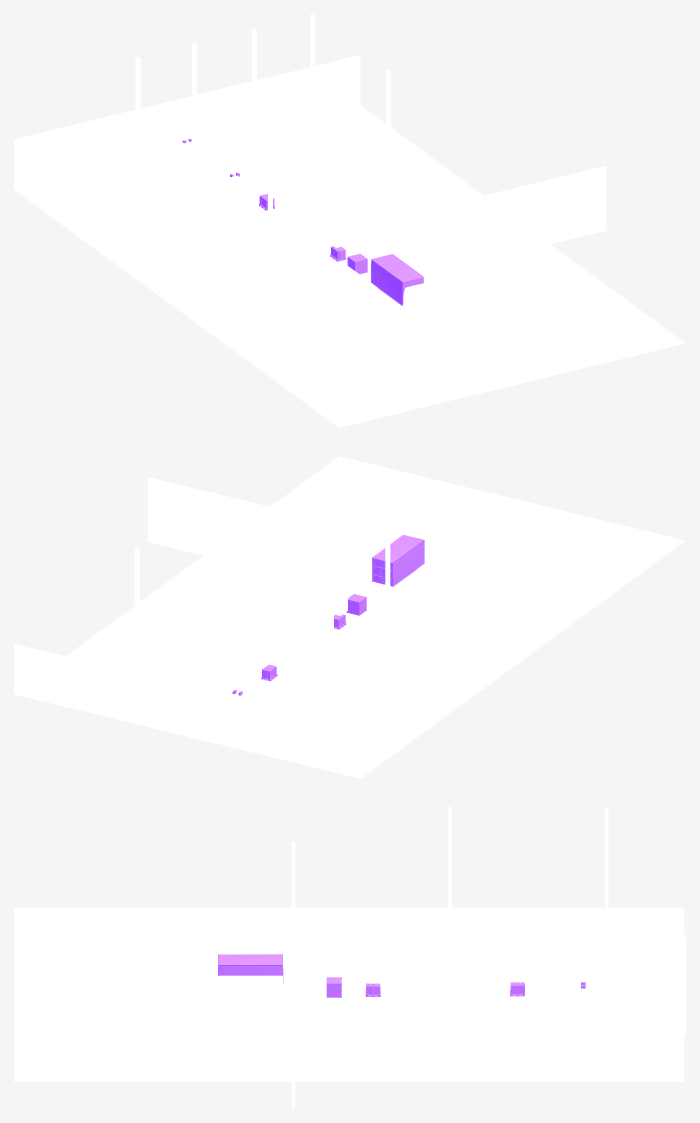
Rendered from fulfillment-draco.gltf.
3 views of the same model, one above another, from view 1: azimuth 30°, elevation 25°; view 2: azimuth 150°, elevation 25°; view 3: azimuth 270°, elevation 25° (orthographic). The views are drawn at different scales.
Visible parts, largest first — view 1: Building, right wall, left wall, container (×3), body (×3), col 1 (×2), col 2 (×2), col 3 (×2), col 4 (×2); view 2: Building, right wall, left wall, container (×3), col 1 (×2), col 2 (×2), col 3 (×2), col 4 (×2), body; view 3: Building, container (×3), body (×3), col 2 (×2), right wall, left wall.
Part boxes in pixels (<box>): Building: <box>14,55,685,427</box>; right wall: <box>447,166,606,264</box>; left wall: <box>203,238,309,328</box>; container (×3): <box>326,244,465,315</box>; body (×3): <box>322,273,477,329</box>; col 1 (×2): <box>135,56,216,252</box>; col 2 (×2): <box>310,14,391,209</box>; col 3 (×2): <box>191,43,272,238</box>; col 4 (×2): <box>251,28,332,220</box>; Building: <box>14,456,685,778</box>; right wall: <box>147,477,306,580</box>; left wall: <box>444,550,550,639</box>; container (×3): <box>334,525,469,597</box>; col 1 (×2): <box>309,534,390,716</box>; col 2 (×2): <box>134,492,215,674</box>; col 3 (×2): <box>253,521,333,703</box>; col 4 (×2): <box>193,506,273,688</box>; body: <box>368,535,434,592</box>; Building: <box>14,907,684,1081</box>; container (×3): <box>219,932,282,1010</box>; body (×3): <box>195,937,290,1017</box>; col 2 (×2): <box>448,894,608,1039</box>; right wall: <box>291,965,295,1108</box>; left wall: <box>291,842,295,959</box>.
Bounding box in the file's own units: 6069 × 2011 × 8536.
